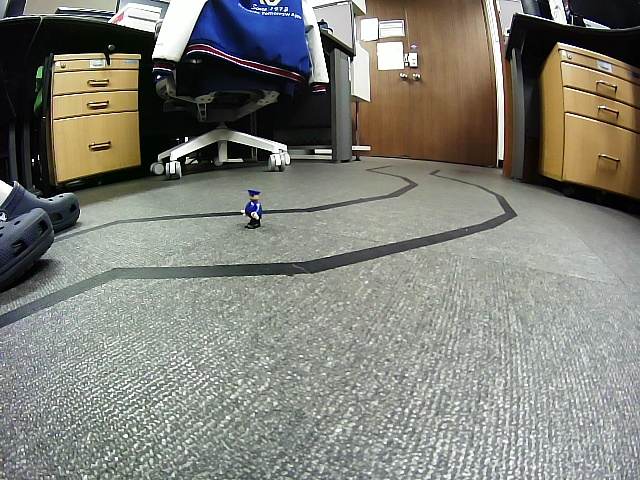person: (240, 189, 263, 230)
